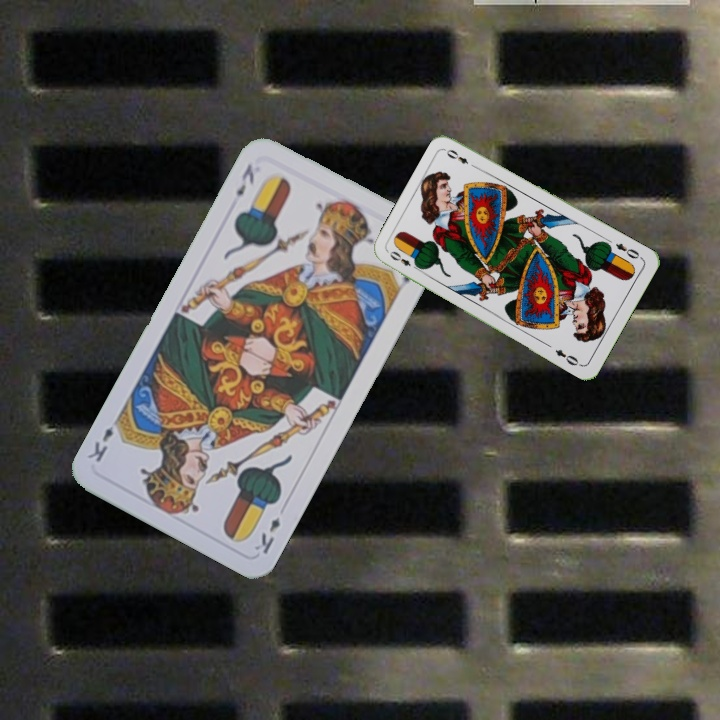EK: (250, 513, 283, 557), (232, 159, 257, 199)
EO: (386, 247, 422, 273), (611, 239, 645, 262)
